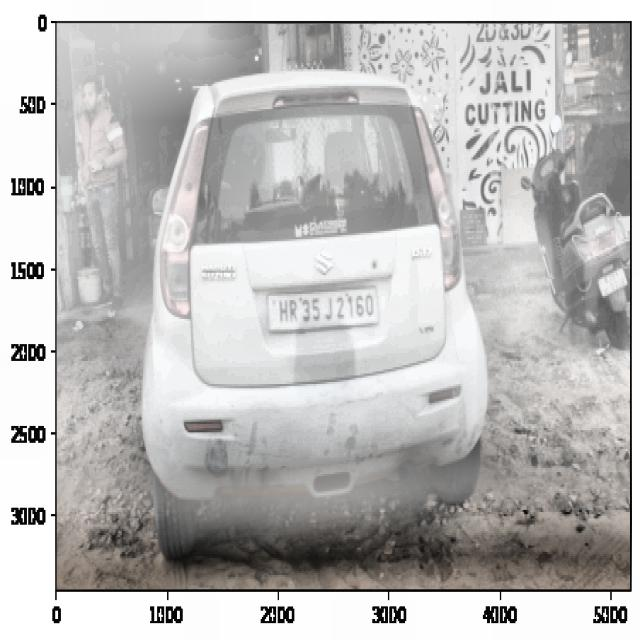license_plate: (273, 290, 377, 331)
